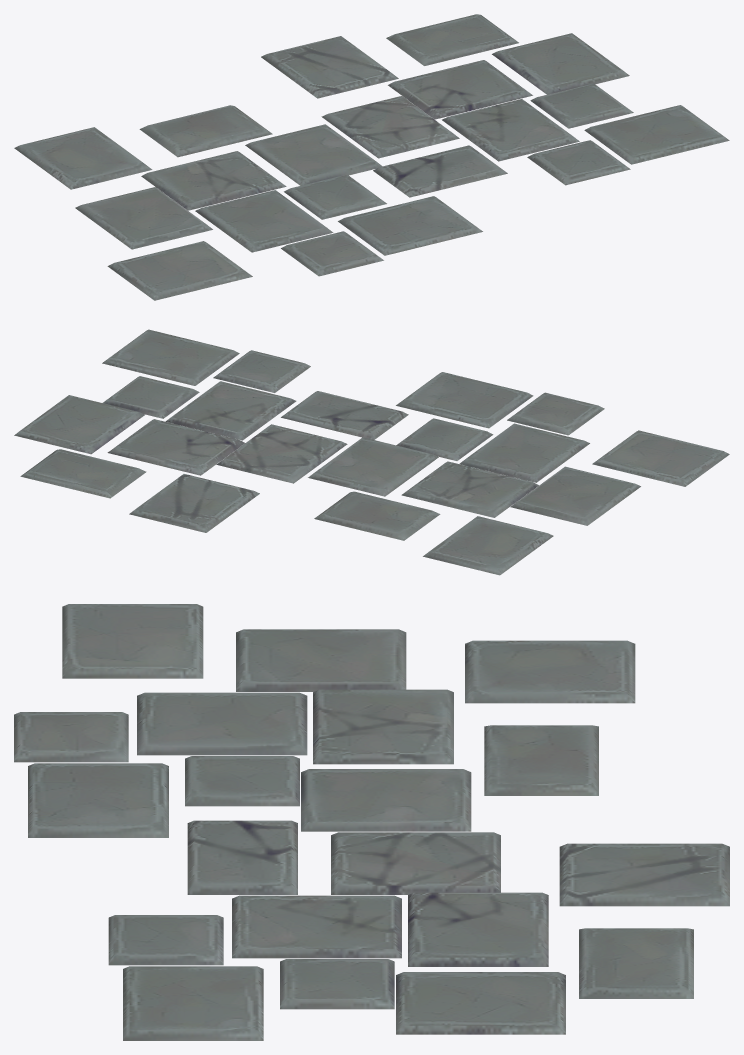
File: cem_floor_tiles_01.fbx
3 views of the same model, one above another, from view 1: azimuth 30°, elevation 25°; view 2: azimuth 150°, elevation 25°; view 3: azimuth 270°, elevation 25° (orthographic). The views are drawn at different scales.
Parts seen in each view (by area): view 1: cem_floor_tiles_01; view 2: cem_floor_tiles_01; view 3: cem_floor_tiles_01.
Boxes of the visible parts, <box> form: cem_floor_tiles_01: <box>14,14,729,300</box>; cem_floor_tiles_01: <box>14,329,729,575</box>; cem_floor_tiles_01: <box>14,604,729,1040</box>.
Size of the model in its own units: 243 by 1.52 by 169.
